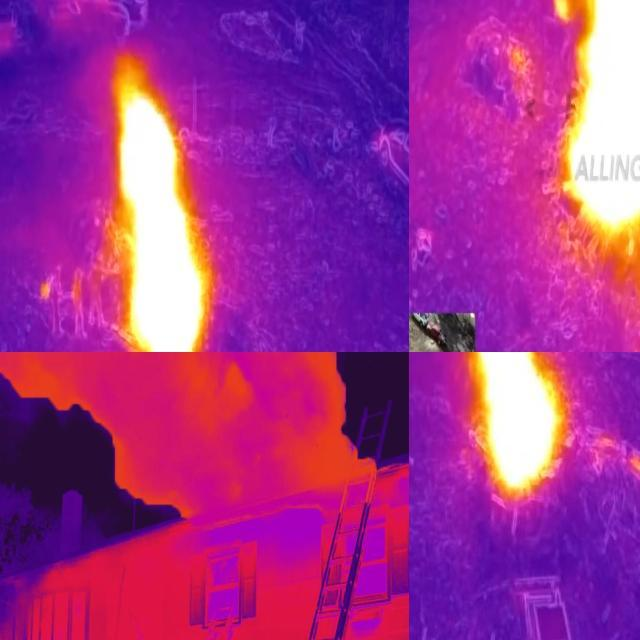fire: (114, 58, 210, 353), (565, 1, 640, 235), (472, 353, 558, 497)
